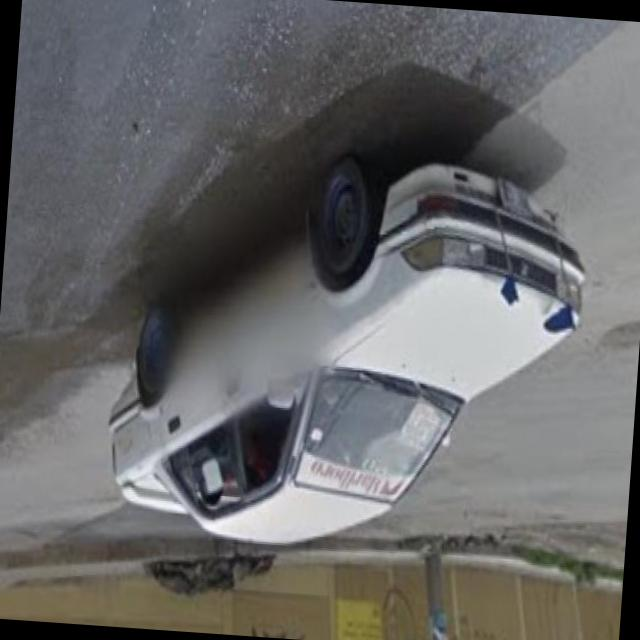car: (97, 133, 588, 562)
